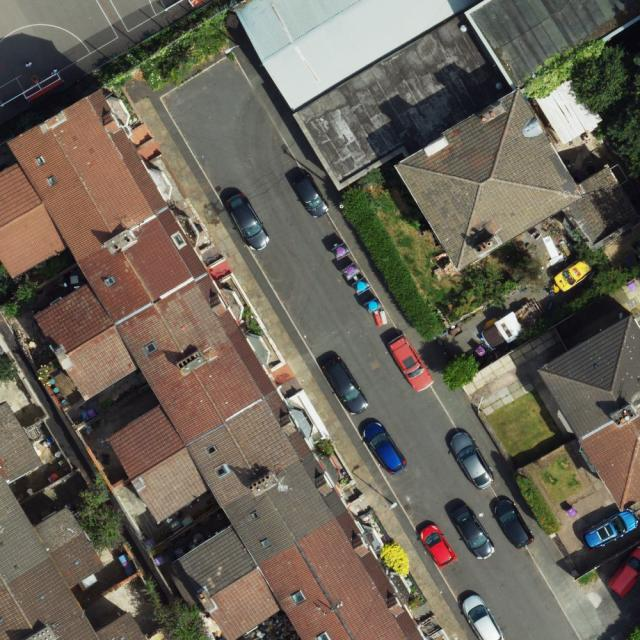roof: (0, 91, 428, 640), (228, 0, 640, 272), (0, 400, 146, 640), (539, 316, 640, 511)
skylight: (289, 587, 308, 608), (172, 233, 189, 251), (142, 338, 159, 356), (213, 463, 231, 479), (101, 273, 117, 288), (259, 536, 274, 552), (204, 443, 219, 458), (46, 172, 60, 187), (34, 153, 47, 168), (315, 629, 333, 639), (248, 509, 261, 522)
